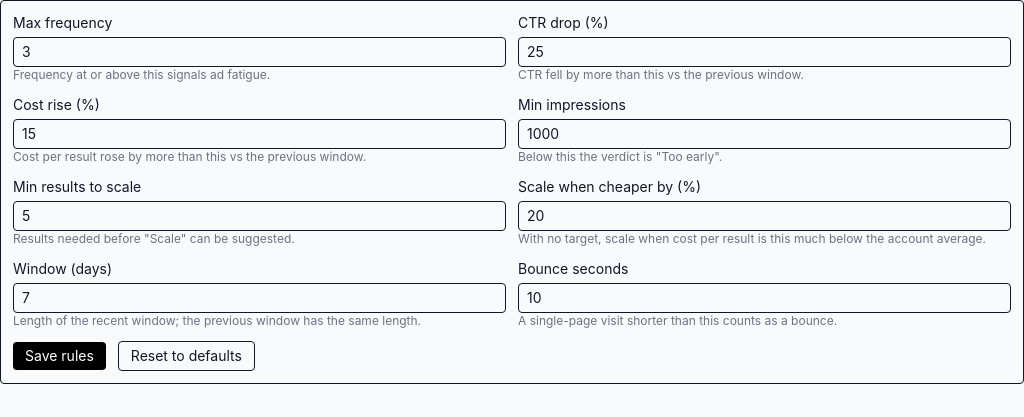
Test: RulesForm › blocks save on invalid input and PUTs valid rules
Replace the text in the number field labelled "Max frequency" with "99": (260, 52) [13,37,506,67]
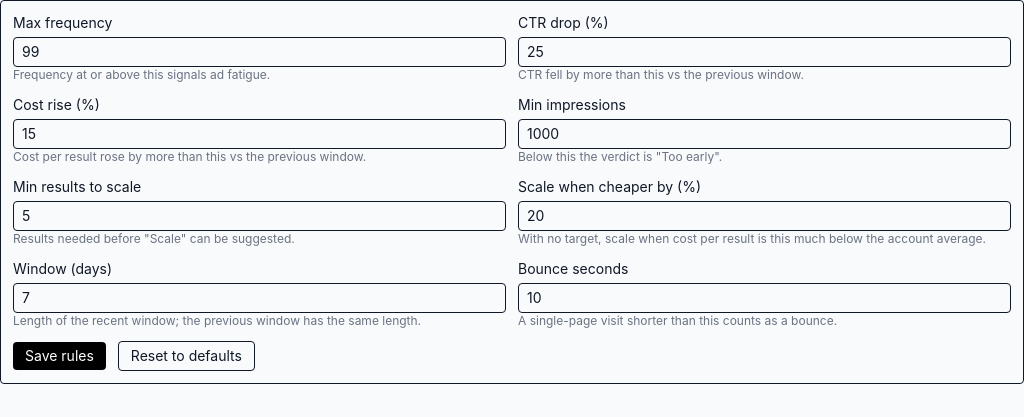
Click the button "Save rules": (59, 356) [13,342,106,370]
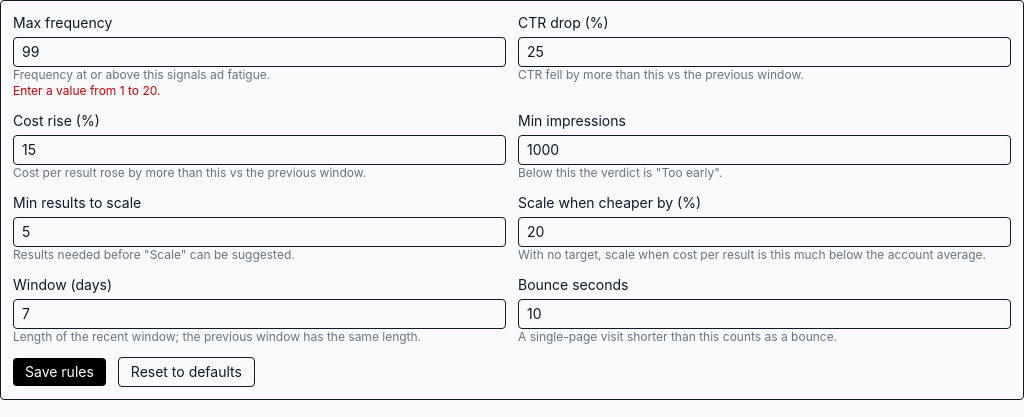
Result: the text "Enter a value from 1 to 20." is shown at [13,83,160,98]
Replace the text in the number field labelled "Max frequency" with "4": (260, 52) [13,37,506,67]
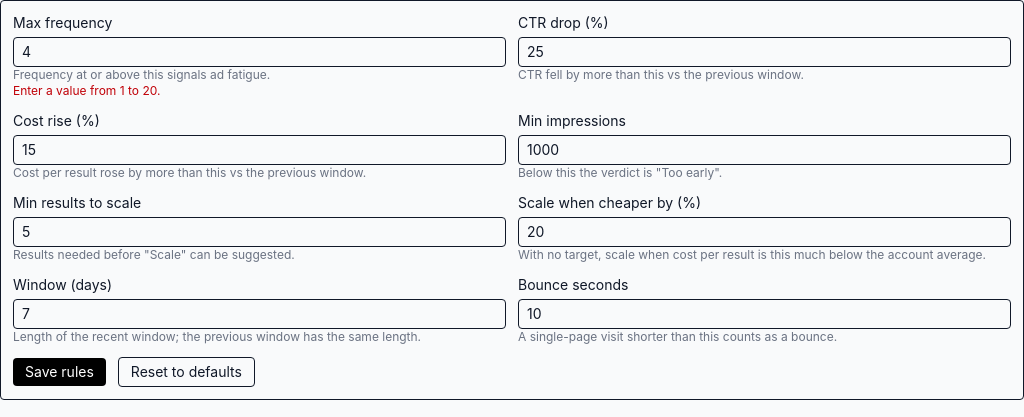
Click the button "Save rules": (59, 372) [13,358,106,386]
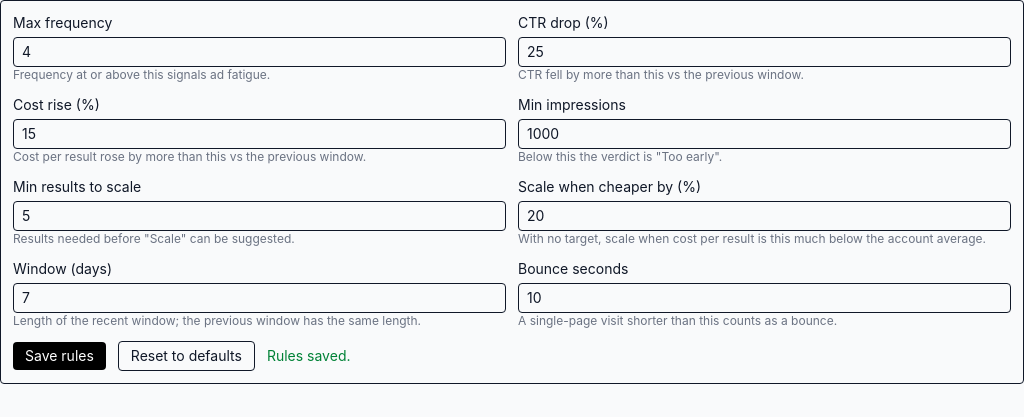
Result: the text "Rules saved." is shown at [267,346,350,366]
